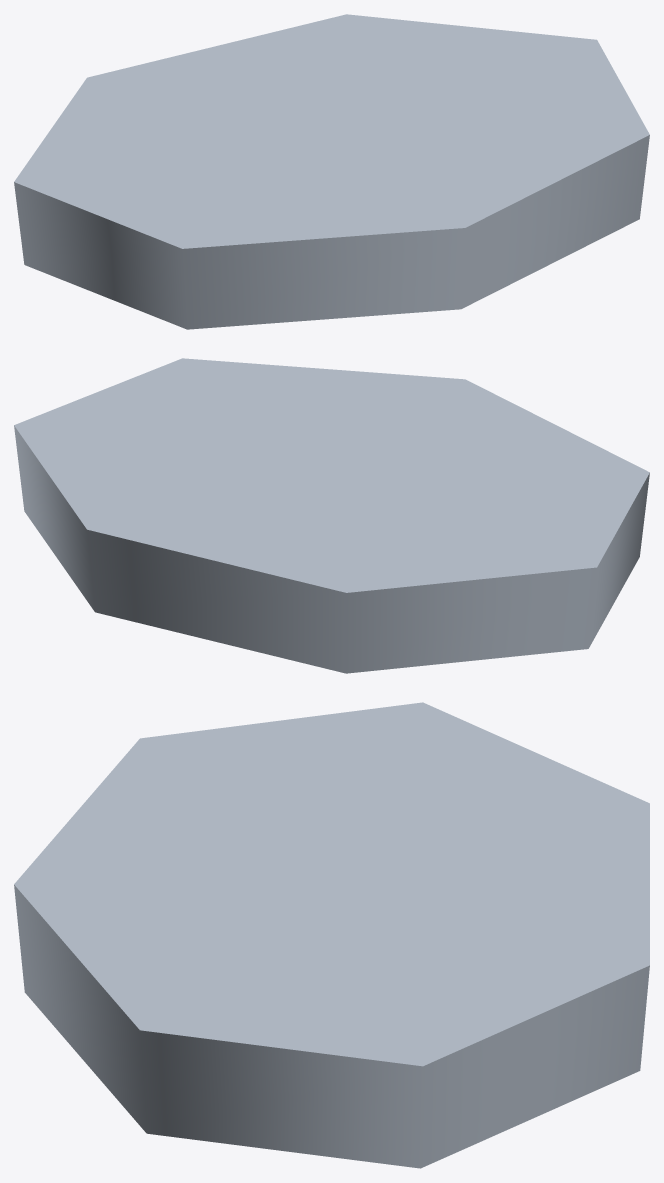
Rendered from garden-stepping-lite.glb.
The picture shows the model from 3 angles, top to bottom: view 1: azimuth 30°, elevation 25°; view 2: azimuth 150°, elevation 25°; view 3: azimuth 270°, elevation 25°; orthographic projection. The views are drawn at different scales.
Visible parts, largest first — view 1: garden-stepping; view 2: garden-stepping; view 3: garden-stepping.
Part boxes in pixels (left/top/right/bottom): garden-stepping: left=14, top=14, right=649, bottom=329; garden-stepping: left=14, top=358, right=649, bottom=673; garden-stepping: left=14, top=702, right=649, bottom=1168.
Bounding box in the file's own units: 0.65 × 0.09 × 0.48.
